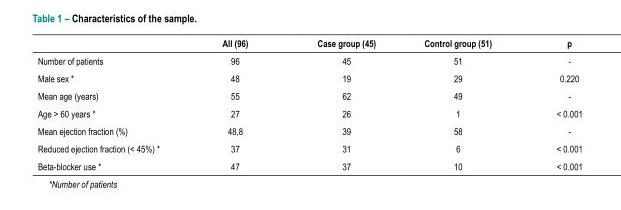table: (36, 37, 581, 171)
table column: (36, 37, 190, 171), (399, 37, 523, 171), (281, 37, 399, 171), (190, 37, 281, 171), (523, 37, 581, 171)
table column header: (36, 37, 581, 51)
table row: (36, 51, 581, 69), (36, 86, 581, 104), (36, 121, 581, 139), (36, 69, 581, 86), (36, 104, 581, 121), (36, 139, 581, 156), (36, 156, 581, 171), (36, 37, 581, 51)
